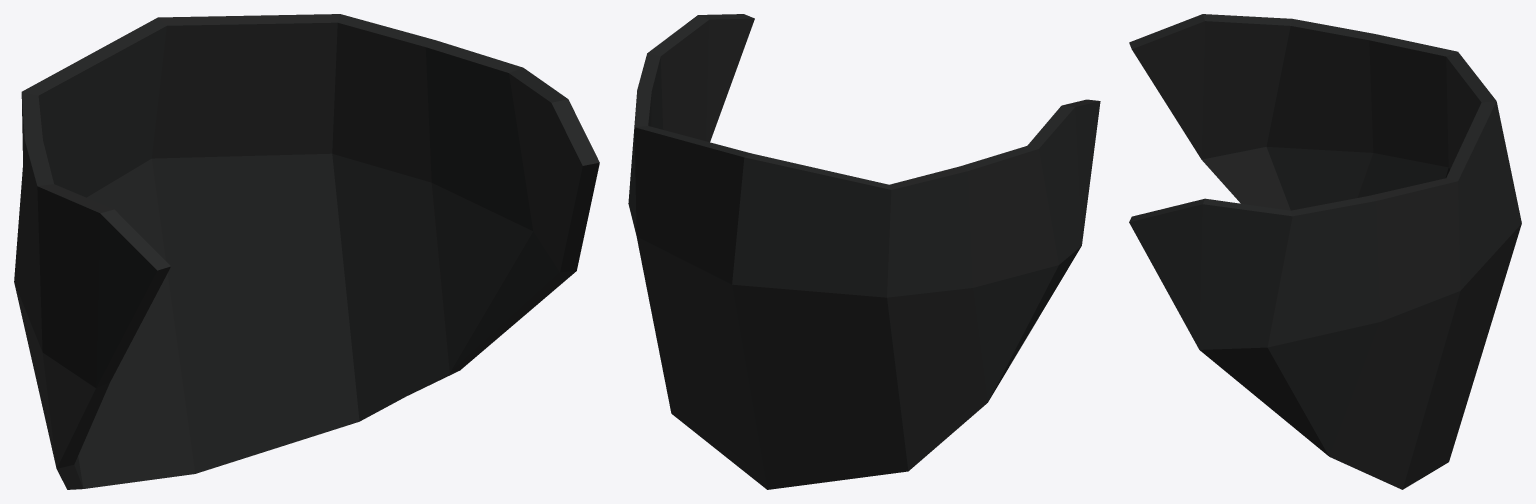
Rendered from Half Bald.fbx.
3 renders of one model, left to right at view 1: azimuth 30°, elevation 25°; view 2: azimuth 150°, elevation 25°; view 3: azimuth 270°, elevation 25°, orthographic. The views are drawn at different scales.
Parts seen in each view (by area): view 1: Half Bald; view 2: Half Bald; view 3: Half Bald.
Part boxes in pixels (x1=…): Half Bald: x1=14, y1=14, x2=599, y2=489; Half Bald: x1=628, y1=14, x2=1100, y2=489; Half Bald: x1=1129, y1=14, x2=1521, y2=489.
Size of the model in its own units: 32.09 by 26.29 by 25.93.
